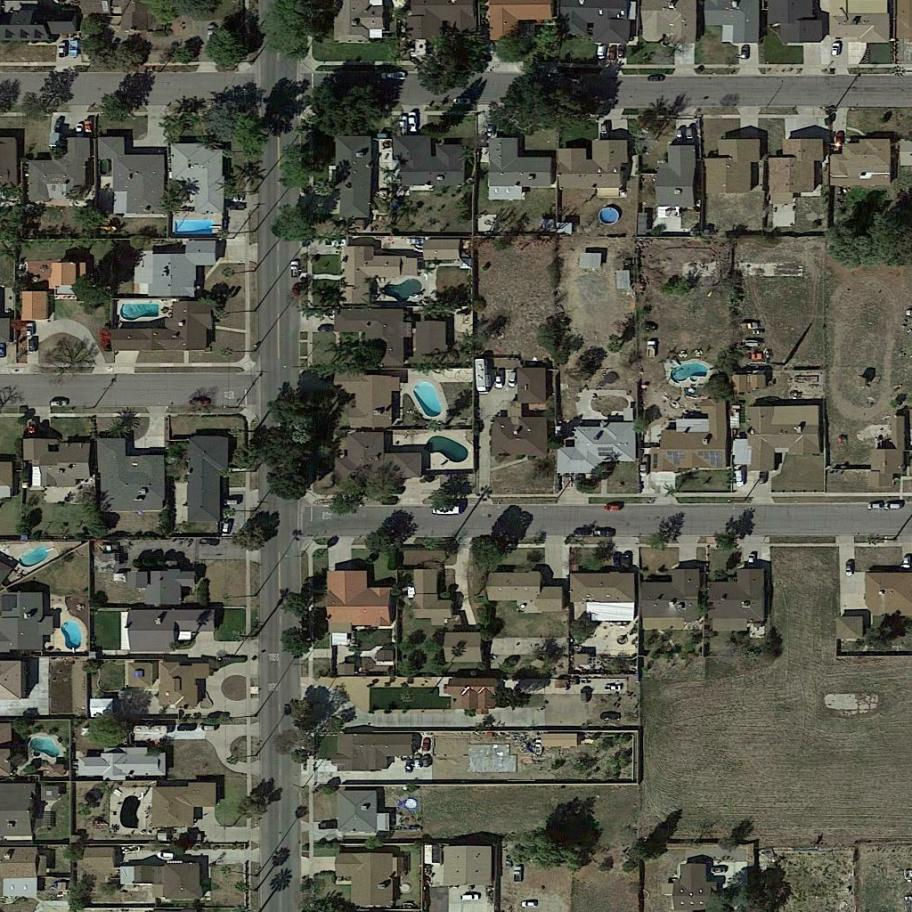large-vehicle: (474, 359, 492, 395), (432, 506, 460, 516), (647, 341, 656, 358)
ship: (121, 845, 141, 853)
small-vehicle: (381, 70, 406, 80), (733, 469, 746, 488), (290, 259, 301, 279), (325, 238, 347, 248), (493, 371, 505, 389), (222, 518, 233, 537), (533, 738, 544, 756), (53, 117, 65, 133), (507, 372, 518, 389), (639, 457, 648, 477), (685, 128, 695, 146), (594, 528, 613, 537), (640, 321, 657, 331), (710, 865, 727, 875), (409, 112, 417, 133), (600, 713, 621, 721), (398, 116, 407, 134), (513, 867, 523, 883), (191, 398, 211, 406), (318, 822, 338, 830), (598, 44, 607, 61), (574, 528, 591, 537), (461, 894, 480, 902), (759, 470, 769, 485), (405, 238, 426, 245), (603, 505, 621, 513), (600, 123, 609, 139), (581, 688, 590, 704), (156, 851, 174, 859), (453, 98, 470, 106), (28, 421, 37, 436), (608, 46, 617, 61), (613, 552, 622, 567), (414, 754, 422, 770), (50, 400, 68, 407), (405, 759, 413, 774), (423, 753, 431, 768), (26, 322, 34, 337), (486, 121, 494, 136), (835, 133, 843, 148), (833, 41, 841, 56), (742, 45, 750, 60), (522, 900, 537, 908), (676, 130, 684, 145), (623, 554, 631, 569), (846, 563, 854, 578), (648, 75, 665, 82), (422, 738, 431, 751), (29, 338, 37, 352), (885, 503, 901, 510), (867, 503, 883, 510), (58, 44, 66, 58), (604, 685, 622, 691), (229, 195, 244, 202), (224, 500, 238, 507), (618, 44, 625, 58), (85, 120, 92, 134), (748, 555, 755, 569), (208, 26, 216, 38), (76, 125, 83, 138), (904, 558, 911, 570)
